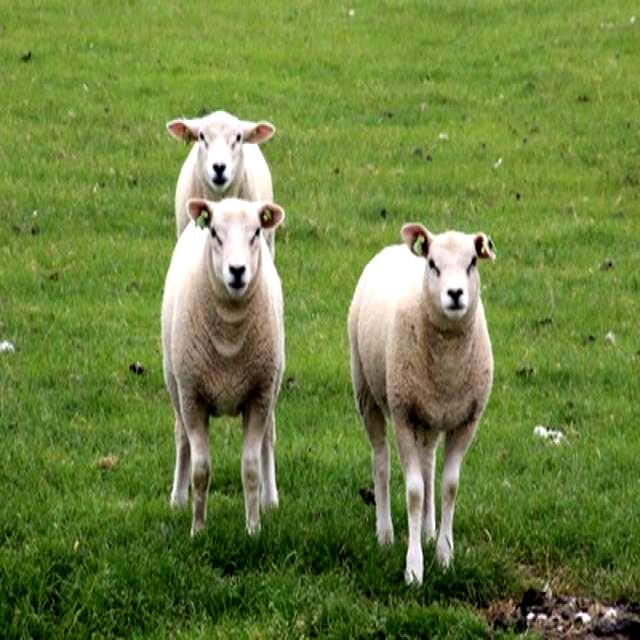sheep: (346, 221, 499, 591), (161, 195, 283, 535), (168, 112, 274, 230)
